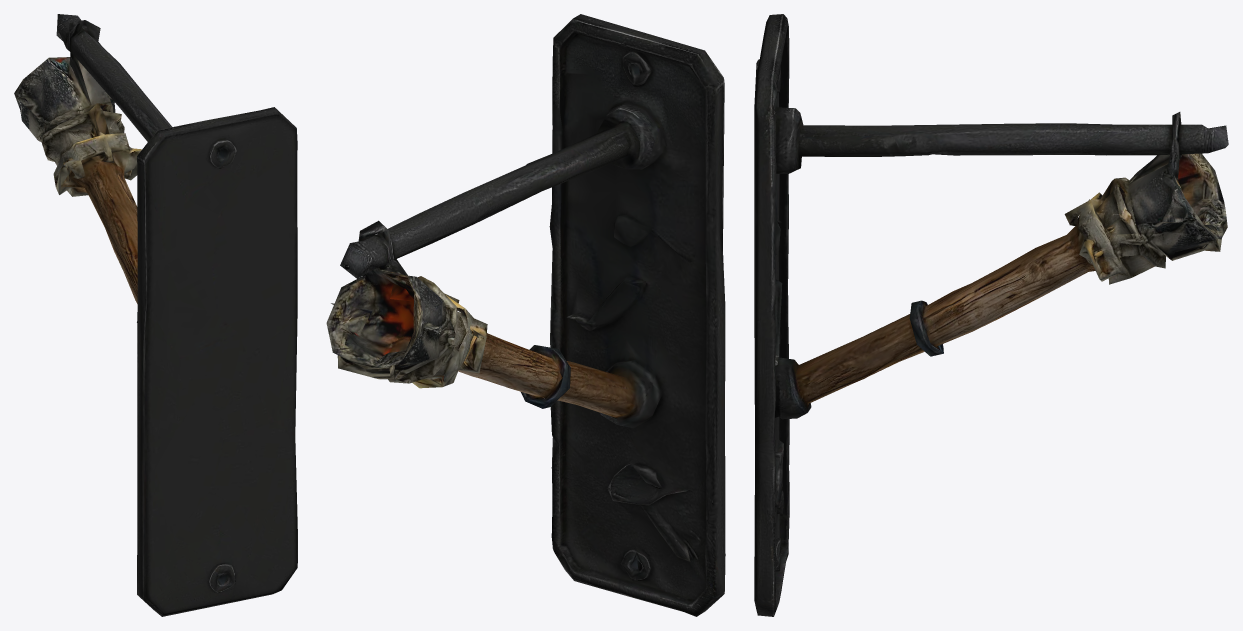
The model's file is bb_wall_torch.f8e349e68f.glb.
3 renders of one model, left to right at view 1: azimuth 30°, elevation 25°; view 2: azimuth 150°, elevation 25°; view 3: azimuth 270°, elevation 25°, orthographic. The views are drawn at different scales.
Parts seen in each view (by area): view 1: bb_wall_torch; view 2: bb_wall_torch; view 3: bb_wall_torch.
Boxes of the visible parts, x1=… form: bb_wall_torch: x1=14, y1=14, x2=297, y2=616; bb_wall_torch: x1=326, y1=14, x2=725, y2=616; bb_wall_torch: x1=754, y1=14, x2=1228, y2=616.
Size of the model in its own units: 0.154 by 0.45 by 0.3566.
Materials: 1 (1 with a texture image).
